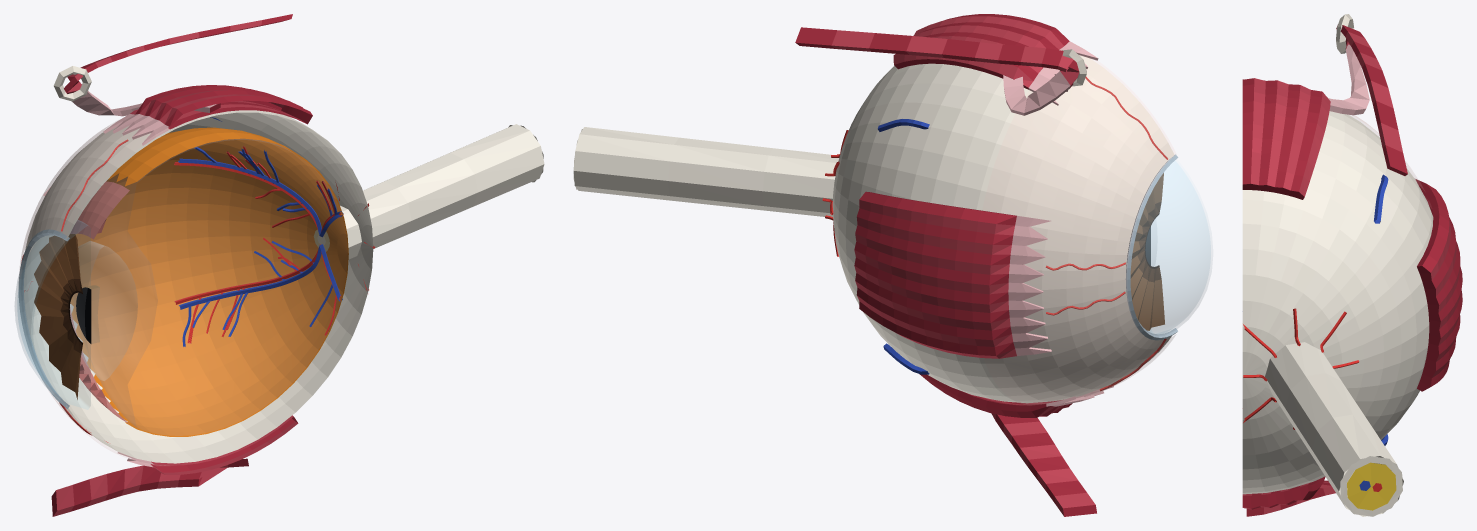
File: eye-cut.glb
The picture shows the model from 3 angles, left to right: view 1: azimuth 30°, elevation 25°; view 2: azimuth 150°, elevation 25°; view 3: azimuth 270°, elevation 25°; orthographic projection. The views are drawn at different scales.
Parts seen in each view (by area): view 1: retina (×2), vitreous, sclera (×2), muscles (×2), nerve, lens, conjunctiva, iris, aqueous, cornea, ciliary, pupil; view 2: sclera (×3), muscles, conjunctiva, nerve, cornea, iris; view 3: sclera (×2), muscles (×2), nerve.
Part boxes in pixels (x1,y1,x2,y2): retina (×2): (70,127,348,436); vitreous: (76,139,346,435); sclera (×2): (18,110,373,463); muscles (×2): (21,14,312,516); nerve: (340,124,544,259); lens: (70,241,137,380); conjunctiva: (19,121,168,457); iris: (34,234,82,399); aqueous: (17,220,99,408); cornea: (14,235,66,399); ciliary: (70,181,129,423); pupil: (76,287,91,343); sclera (×3): (822,55,1178,403); muscles: (795,14,1167,516); conjunctiva: (983,55,1175,404); nerve: (573,127,838,216); cornea: (1131,160,1212,334); iris: (1130,173,1164,330); sclera (×2): (1242,111,1433,494); muscles (×2): (1242,14,1462,516); nerve: (1265,342,1403,516).
Size of the model in its own units: 0.512 by 0.3896 by 0.1614.
